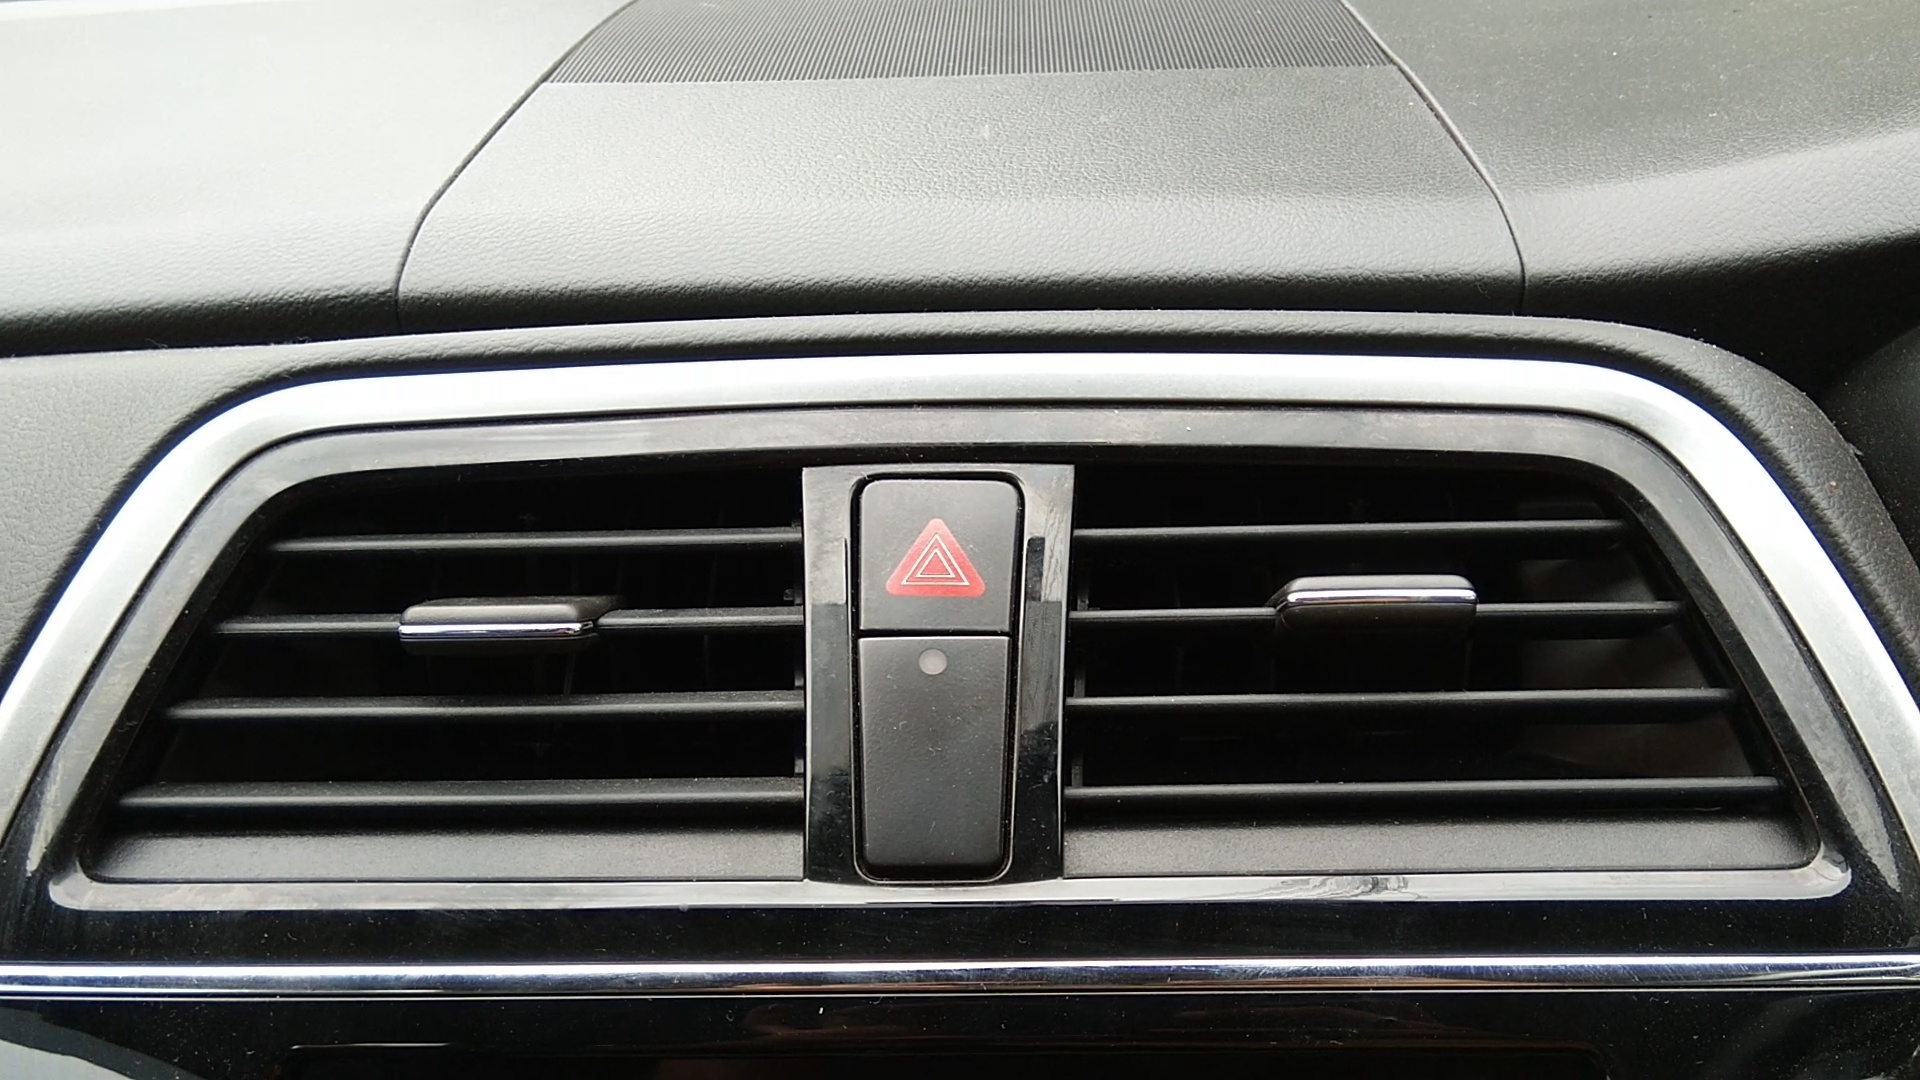parking_button: (836, 455, 1036, 659)
